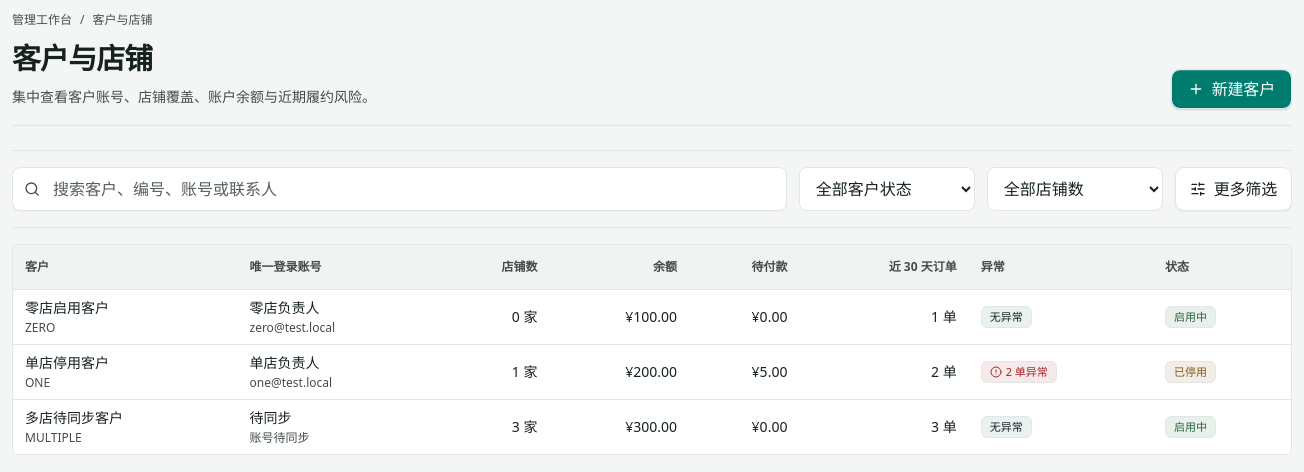
CustomerListWorkspace filters › filters customer rows by store-count bucket
The width and height of the screenshot is (1304, 472).
Select "2 家及以上" in the dropdown named "店铺数筛选" at (1075, 189), box [987,167,1163,211]
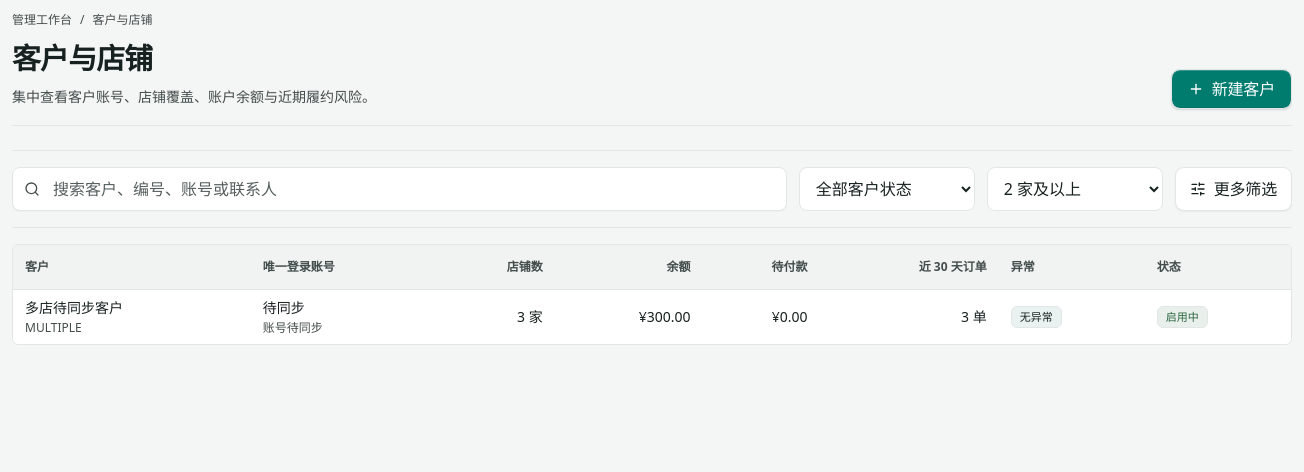
Expected: the row "多店待同步客户 MULTIPLE 待同步 账号待同步 3 家 ¥300.00 ¥0.00 3 单 无异常 启用中" is shown, [13,289,1291,344]
Result: the link "零店启用客户" is gone
Result: the link "单店停用客户" is gone
